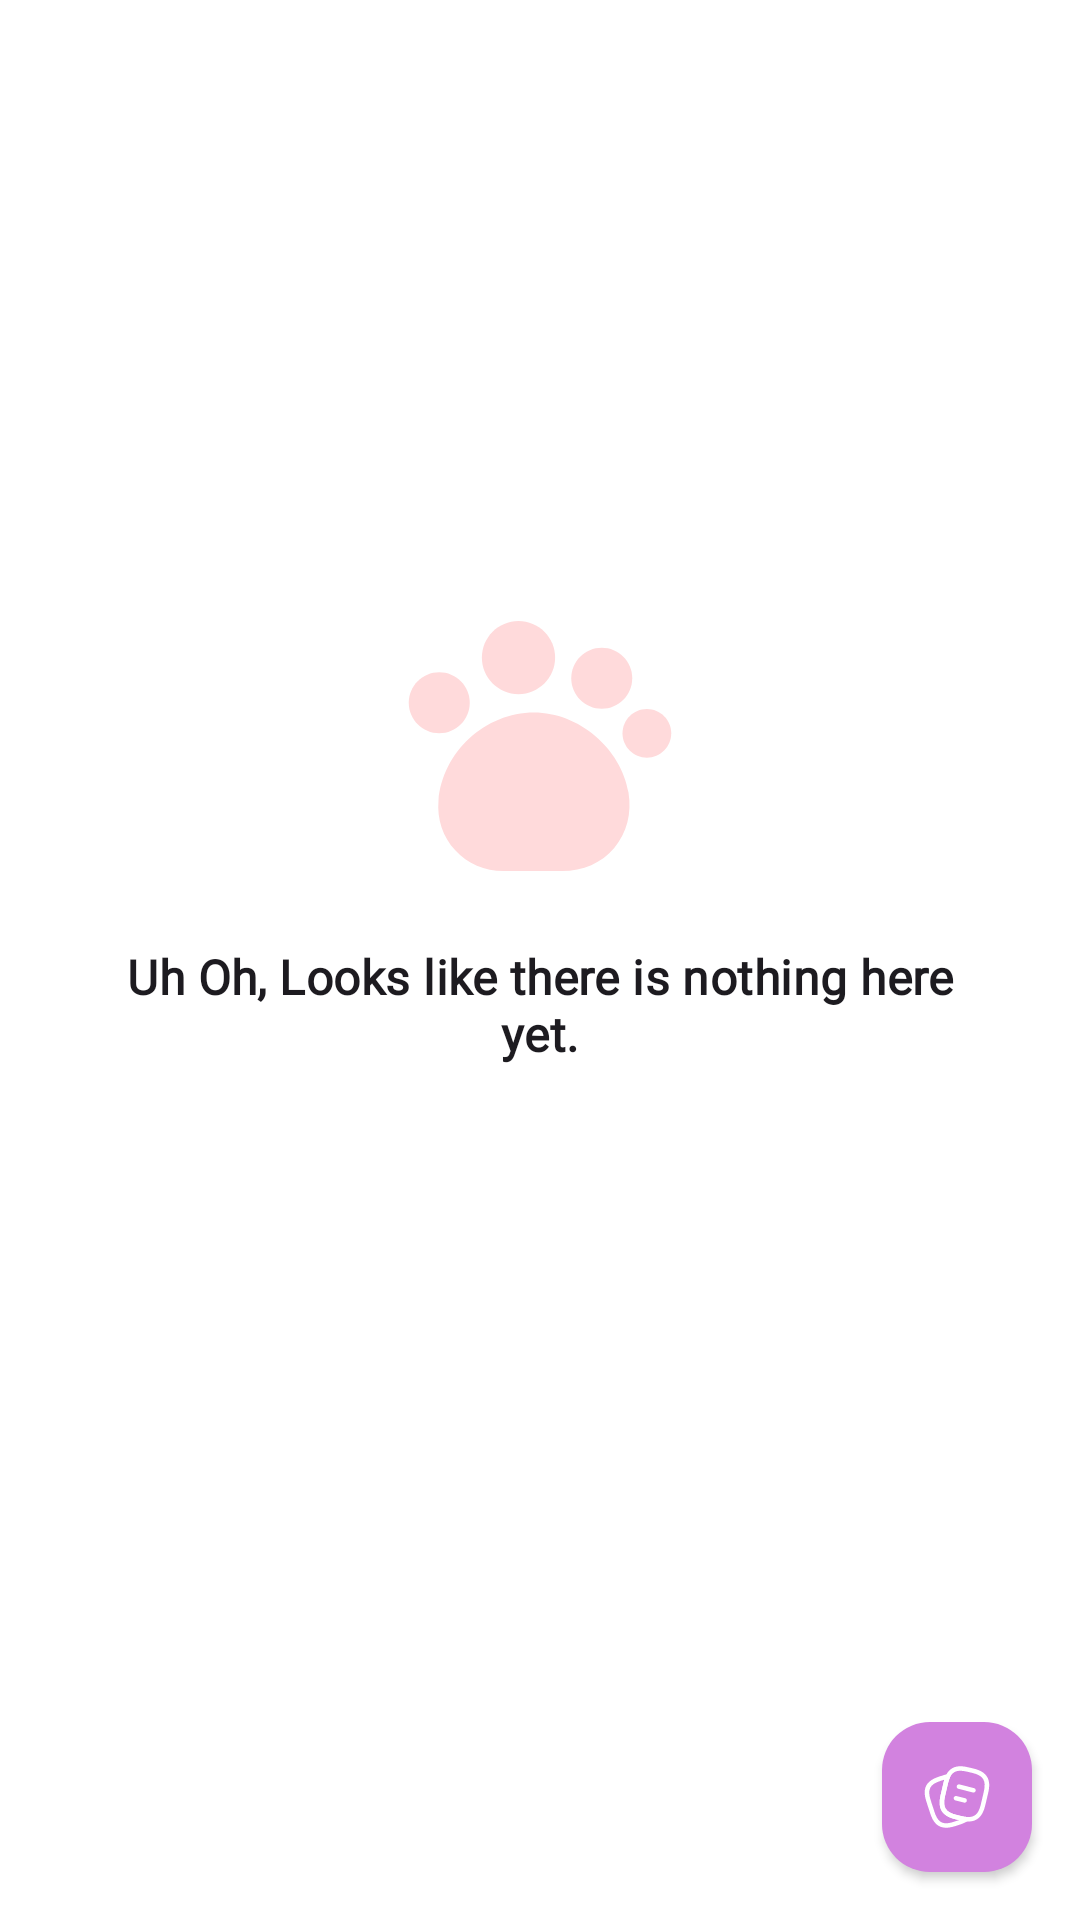

Screen size 1080w x 1920h. Icon name, then its center in pixels as (x=x, y=y):
note: (x=957, y=1797)
pet: (x=540, y=746)
